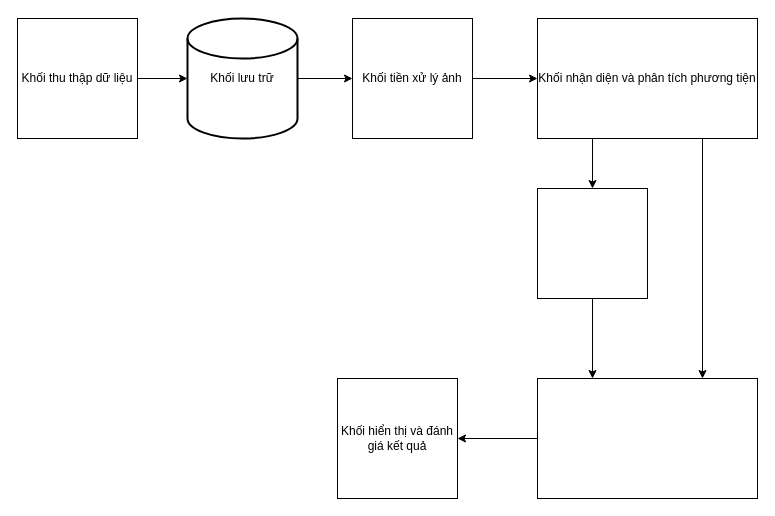
Some shapes in this 775 by 516 pixel diagram are drawn without their labels. Here are the shapes that lost their labels. From the top down, the centre of each, then its label:
At point 592,243: "Khối dự báo lưu lượng và điều tiết giao thông".
At point 647,438: "Khối mô phỏng".
